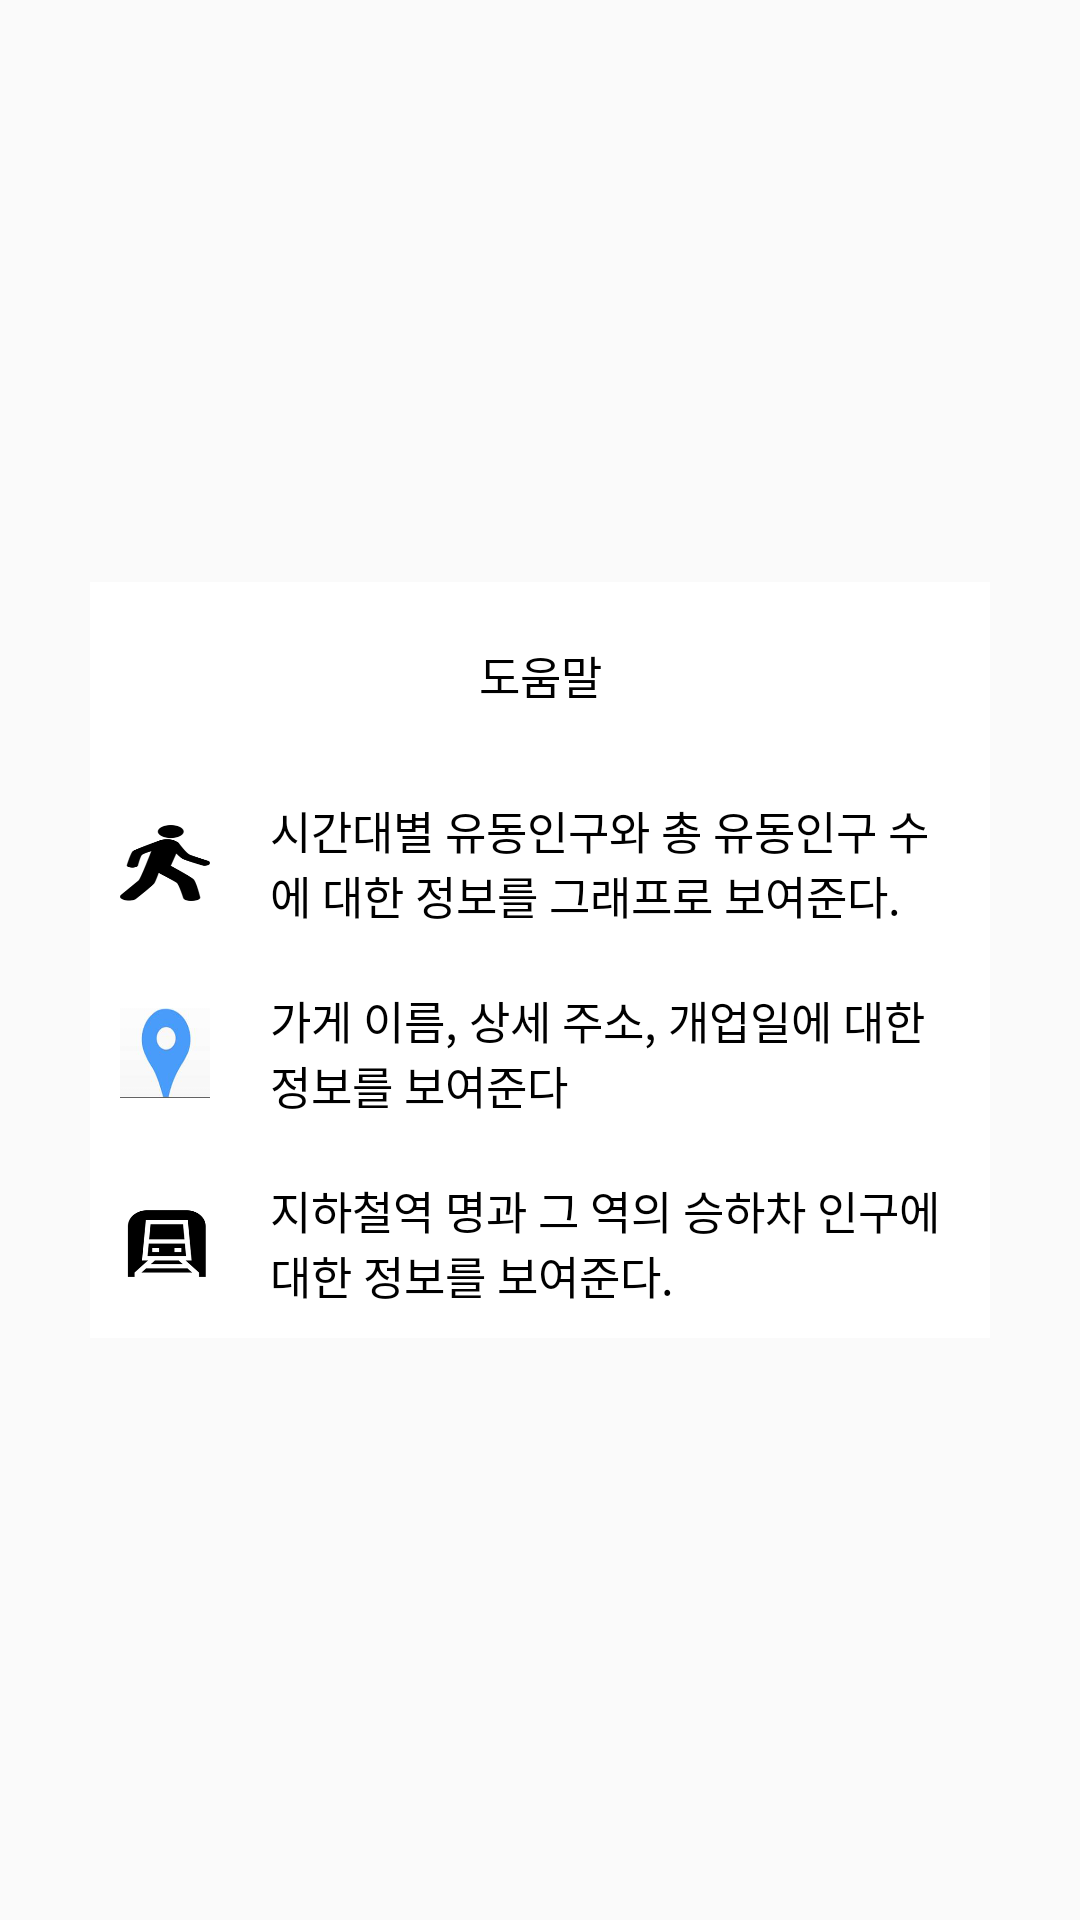

Where icons sit on this 1080w x 1920h app screen, as region(x1, y1, x2, y2):
help marker: region(120, 1008, 210, 1098)
help sub: region(128, 1210, 206, 1277)
help walker: region(120, 825, 210, 901)
